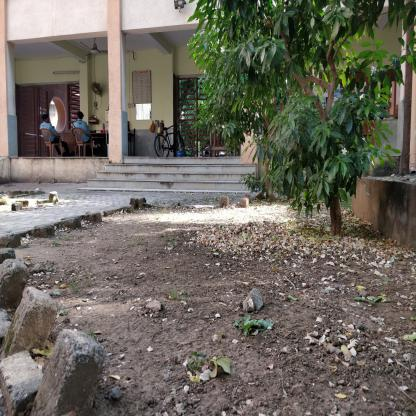stairs: (124, 154, 241, 197)
